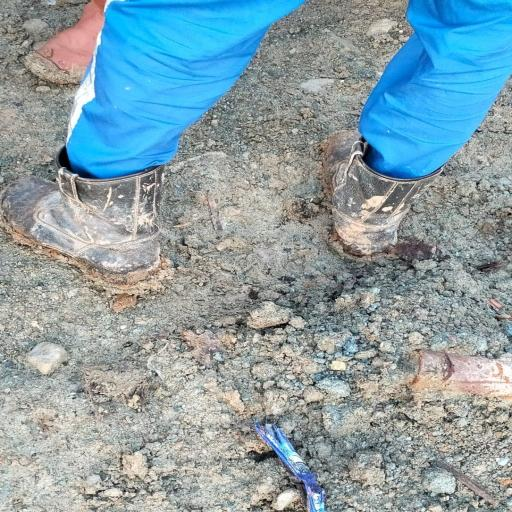safety_shoe: (4, 146, 184, 292), (322, 126, 428, 250)
